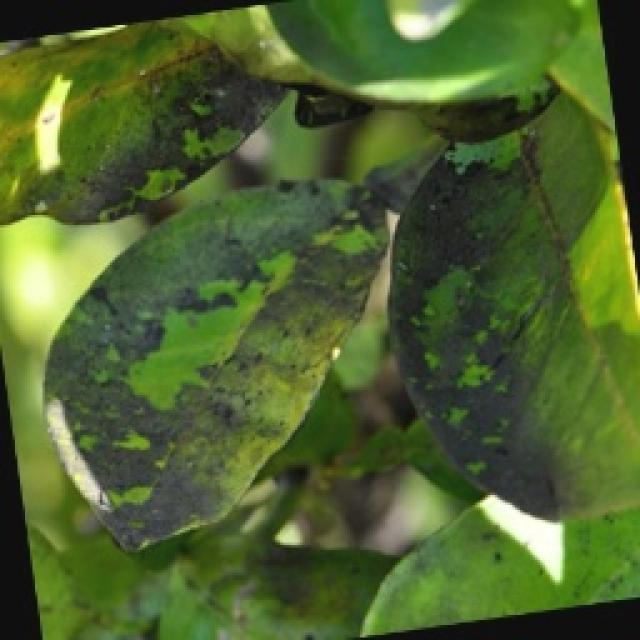Sooty Mold: (40, 175, 390, 553), (385, 88, 637, 522), (0, 15, 290, 230)
